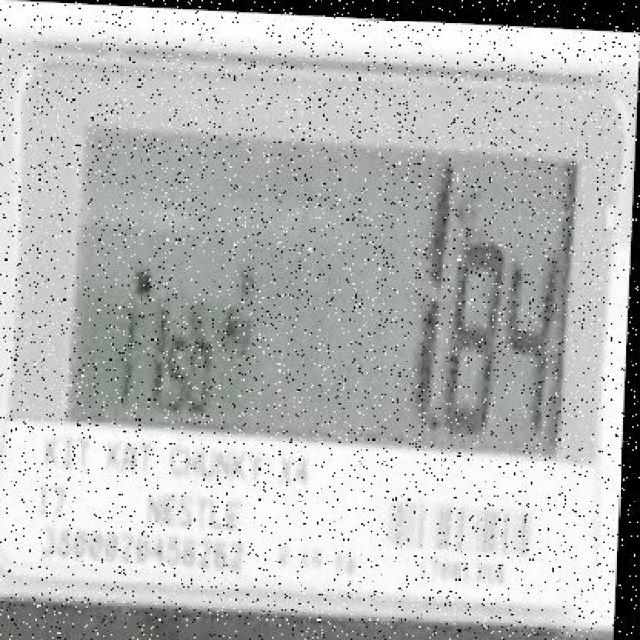display: (69, 125, 582, 462)
frame: (388, 148, 568, 444), (98, 286, 221, 419)
gauge: (0, 0, 640, 640)
